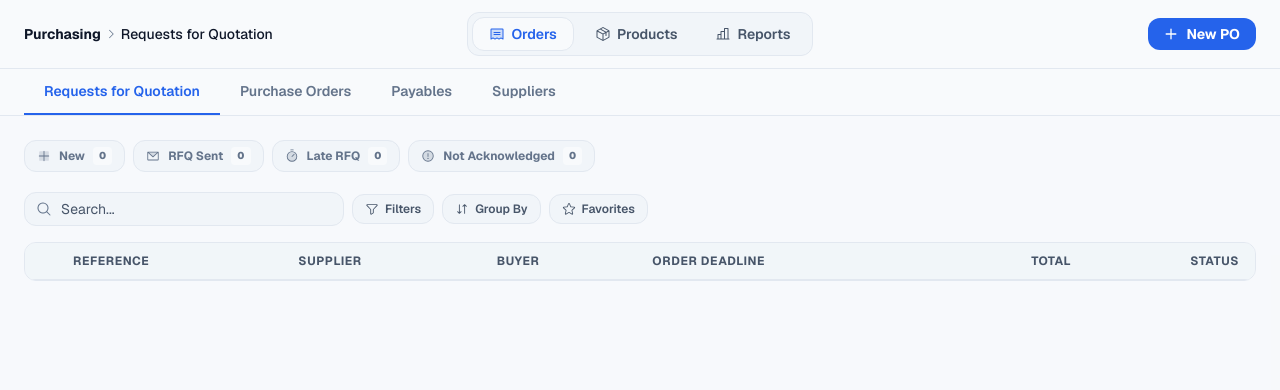
Test: Purchasing product modal keyboard safety › labels icon-only controls
Click the button "Products" at [636, 34], box x1=578 y1=17 x2=694 y2=51
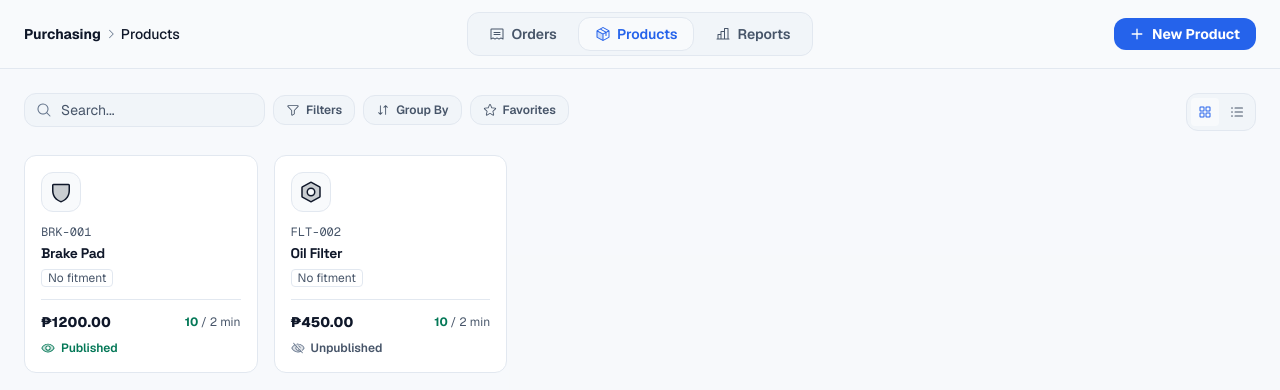
Type "brake" into the field with placeholder "Search..." at [144, 110], box x1=24 y1=93 x2=265 y2=127
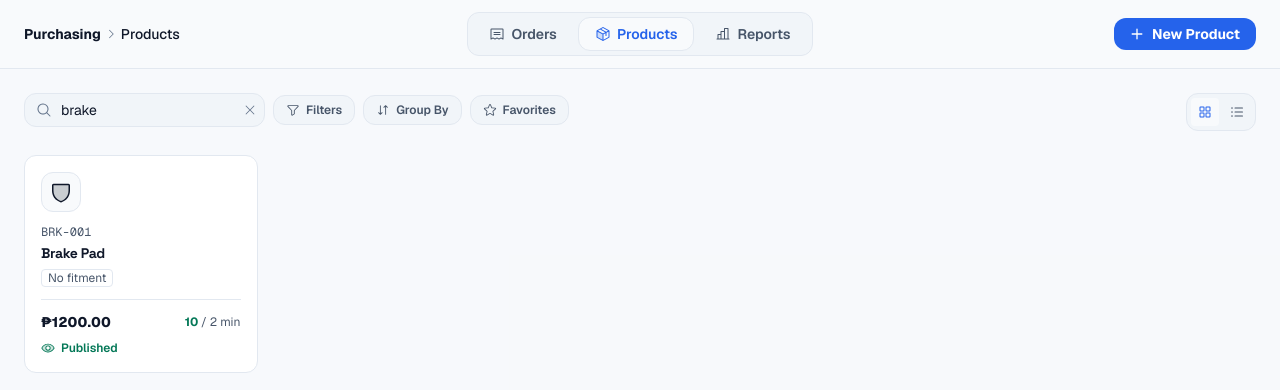
Expected: the button named "Clear search" is shown, x1=243 y1=103 x2=257 y2=117
